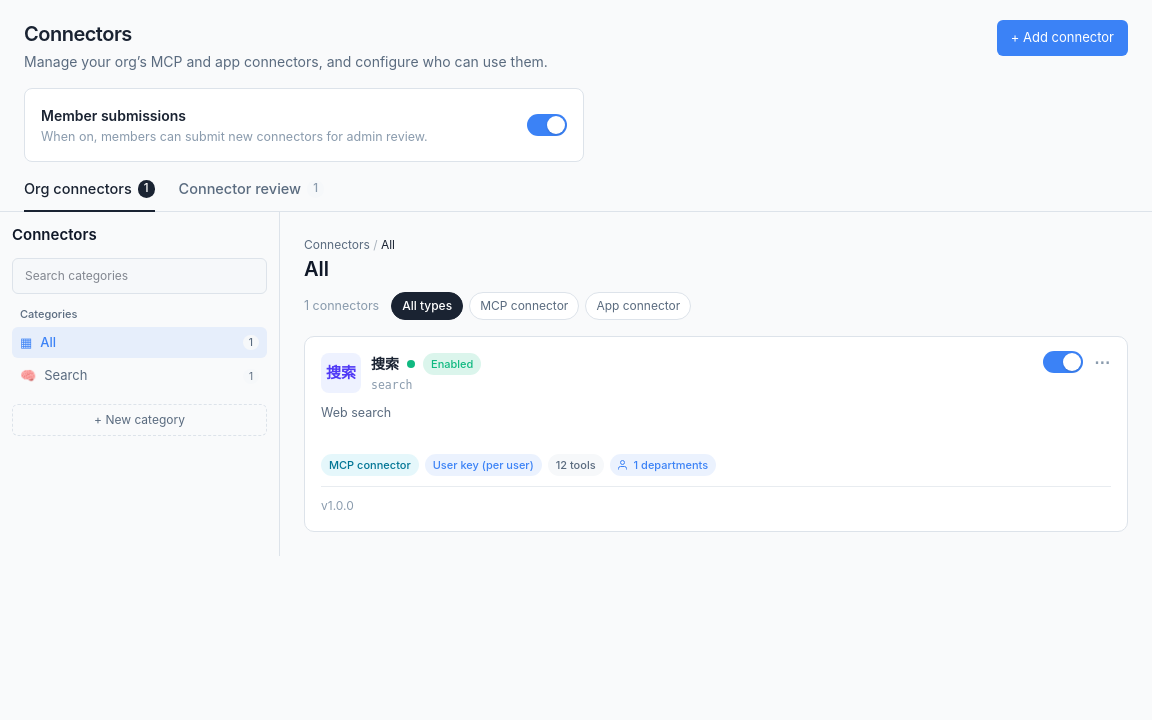
Test case: MCPManagePage (org connectors + review tabs) › switching to the review tab shows the submissions table with per-status rows
This screenshot has width=1152, height=720.
Expected: the text "Web search" is shown, top-left (321, 405), bottom-right (391, 420)
Click the button "Connector review 1".
click(251, 195)  # box top-left (178, 178), bottom-right (324, 212)
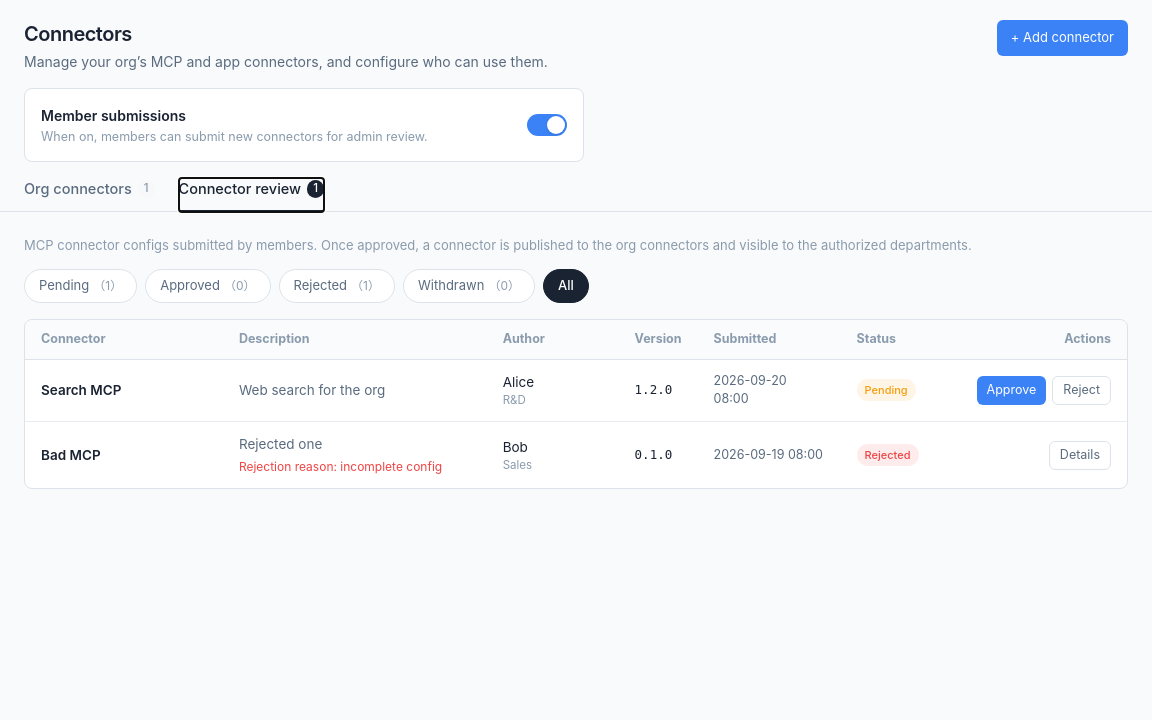
Result: the text "Bad MCP" is shown at top-left (25, 422), bottom-right (223, 488)
Result: the text "Alice" is shown at top-left (503, 374), bottom-right (534, 390)
Result: the text "R&D" is shown at top-left (503, 393), bottom-right (526, 407)
